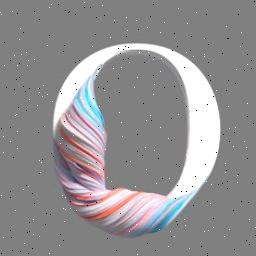o: (48, 38, 226, 244)
